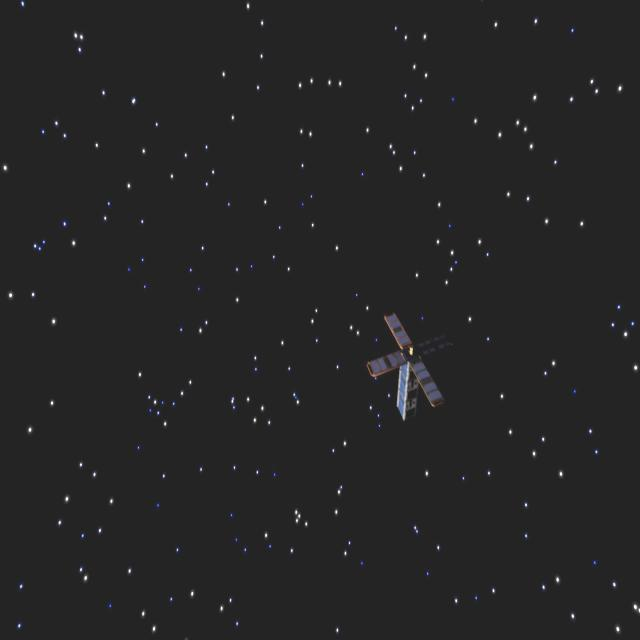satellite: (366, 304, 456, 437)
